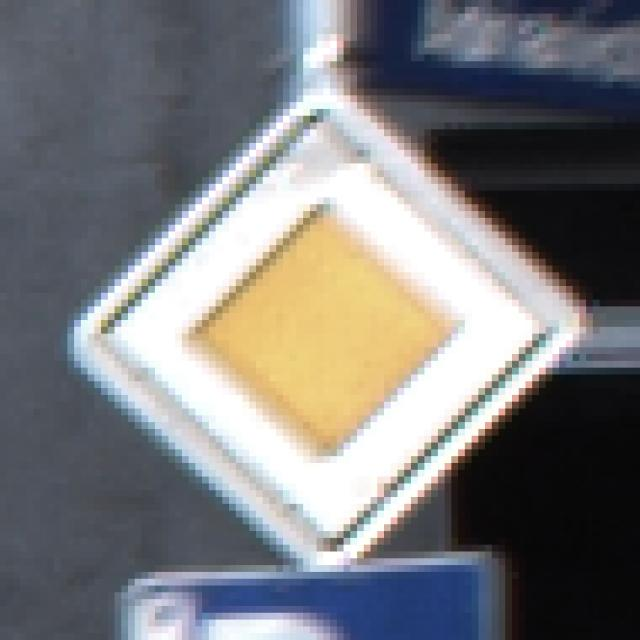Main Road: (62, 56, 587, 587)
